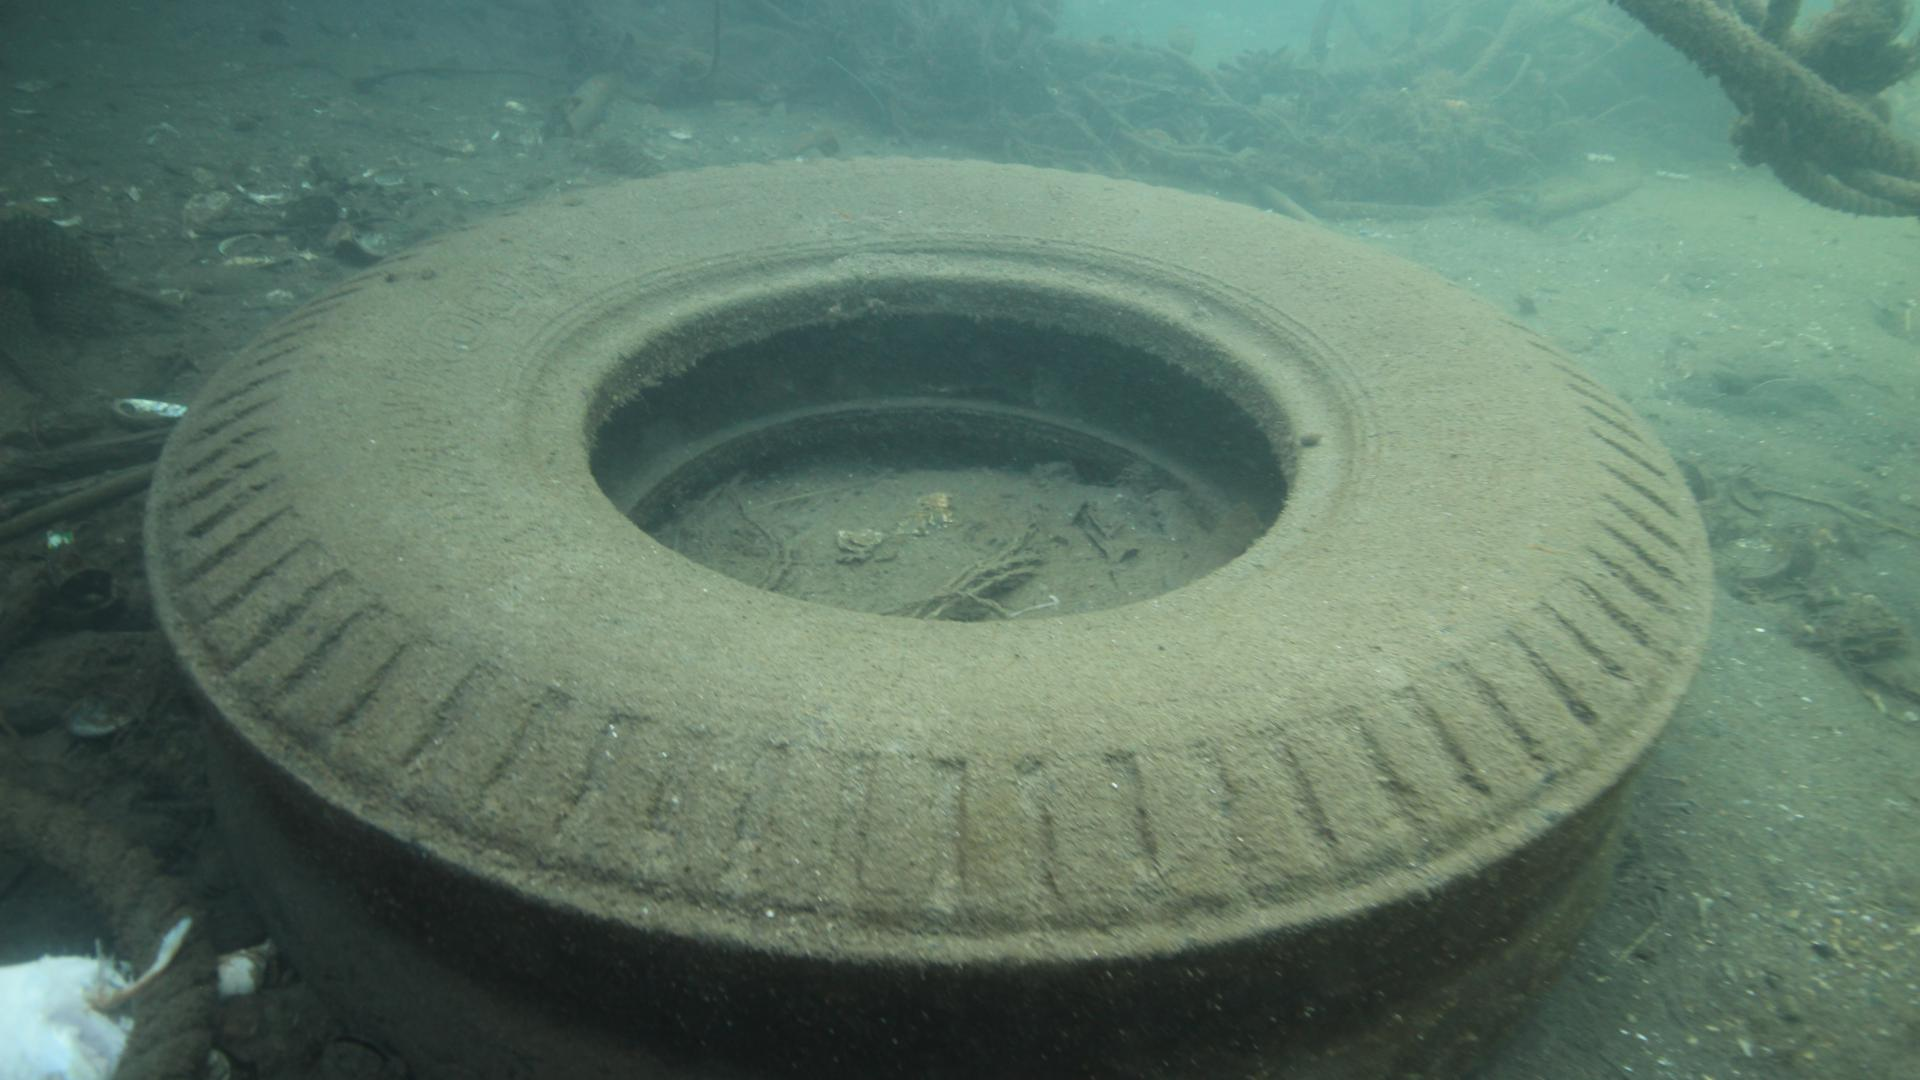bundle of ropes: (1611, 1, 1920, 218)
rope: (0, 766, 225, 1080)
tire: (142, 153, 1718, 1080)
